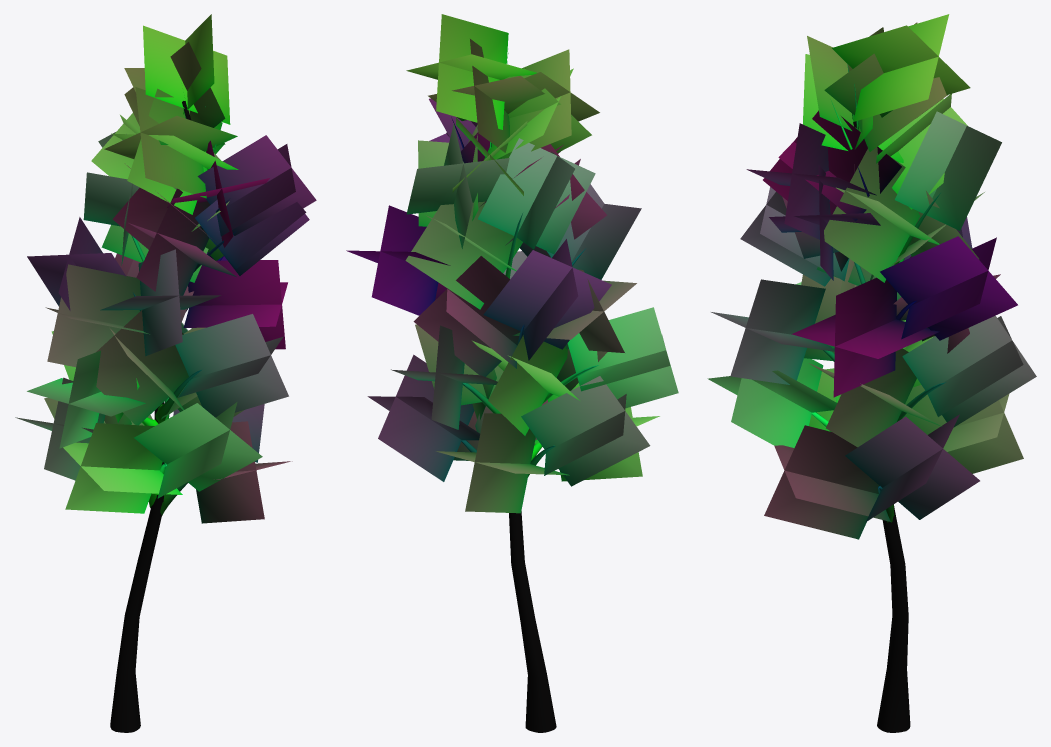
The model's file is M_P5_Tree_5.fbx.
3 views of the same model, side by side, from view 1: azimuth 30°, elevation 25°; view 2: azimuth 150°, elevation 25°; view 3: azimuth 270°, elevation 25° (orthographic). The views are drawn at different scales.
Parts seen in each view (by area): view 1: Tree_5; view 2: Tree_5; view 3: Tree_5.
Part boxes in pixels (x1=…): Tree_5: x1=15, y1=14, x2=316, y2=732; Tree_5: x1=346, y1=14, x2=678, y2=732; Tree_5: x1=707, y1=14, x2=1036, y2=732.
Size of the model in its own units: 274 by 664 by 265.
